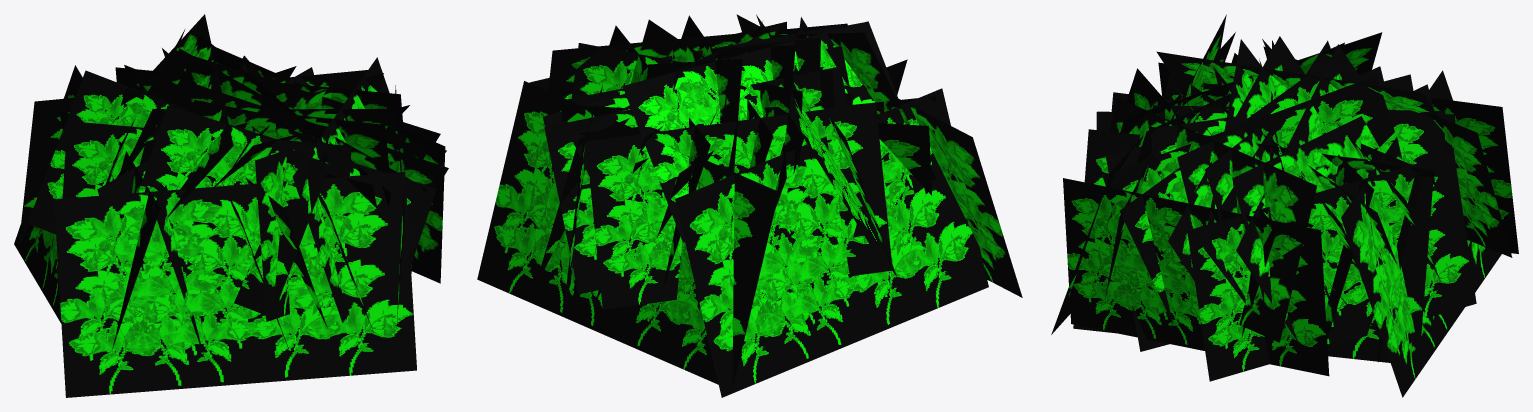
The model's file is BigForestBush.fbx.
3 views of the same model, side by side, from view 1: azimuth 30°, elevation 25°; view 2: azimuth 150°, elevation 25°; view 3: azimuth 270°, elevation 25° (orthographic). The views are drawn at different scales.
Visible parts, largest first — view 1: Plane1684; view 2: Plane1684; view 3: Plane1684.
Part boxes in pixels (left/top/right/bottom): Plane1684: left=14, top=14, right=448, bottom=397; Plane1684: left=477, top=14, right=1022, bottom=397; Plane1684: left=1051, top=14, right=1518, bottom=397.
Bounding box in the file's own units: 229 × 129 × 224.
1 material, 1 textured.
